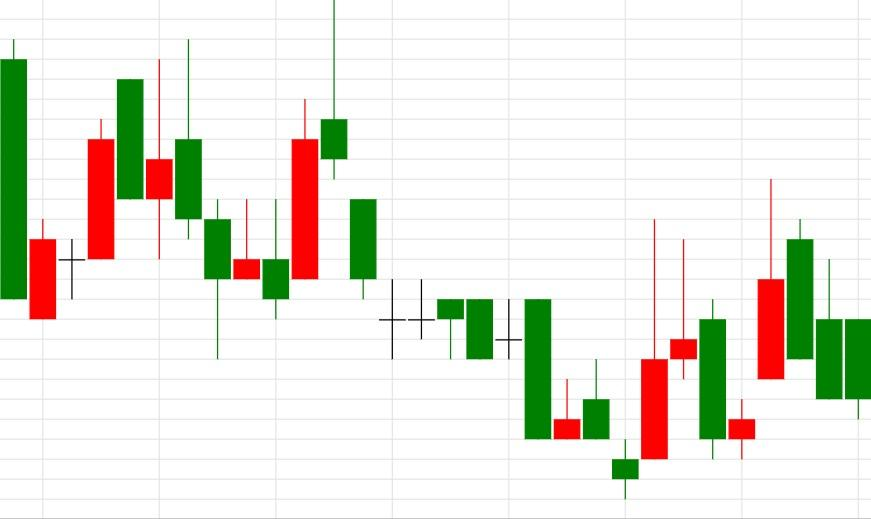shooting_star_fall: (262, 0, 349, 318)
